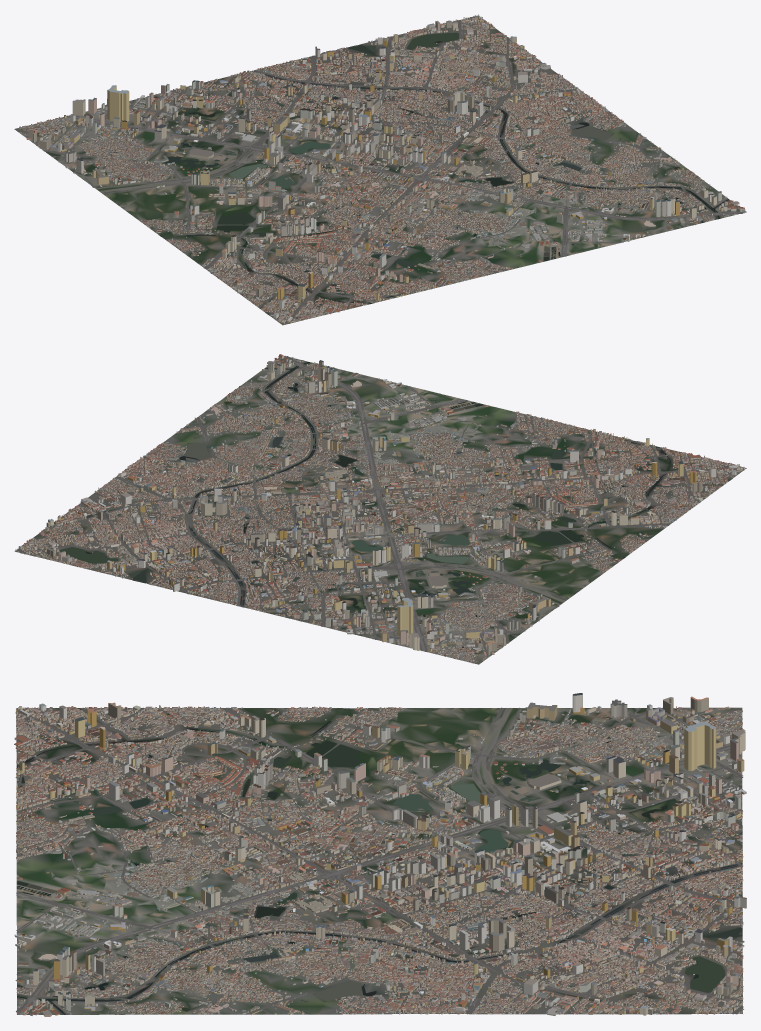
The picture shows the model from 3 angles, top to bottom: view 1: azimuth 30°, elevation 25°; view 2: azimuth 150°, elevation 25°; view 3: azimuth 270°, elevation 25°; orthographic projection. The views are drawn at different scales.
Visible parts, largest first — view 1: buildings, ground, roads, water; view 2: buildings, ground, roads, water; view 3: buildings, ground, roads, water.
Part boxes in pixels (bbox=[...]): buildings: bbox=[19, 14, 745, 324]; ground: bbox=[14, 16, 745, 325]; roads: bbox=[24, 17, 746, 324]; water: bbox=[109, 32, 728, 318]; buildings: bbox=[15, 354, 745, 663]; ground: bbox=[15, 357, 746, 664]; roads: bbox=[14, 355, 743, 657]; water: bbox=[45, 362, 731, 617]; buildings: bbox=[14, 693, 746, 1016]; ground: bbox=[16, 707, 742, 1014]; roads: bbox=[16, 707, 743, 1014]; water: bbox=[16, 708, 742, 1014].
Size of the model in its own units: 5659 by 340 by 5662.
